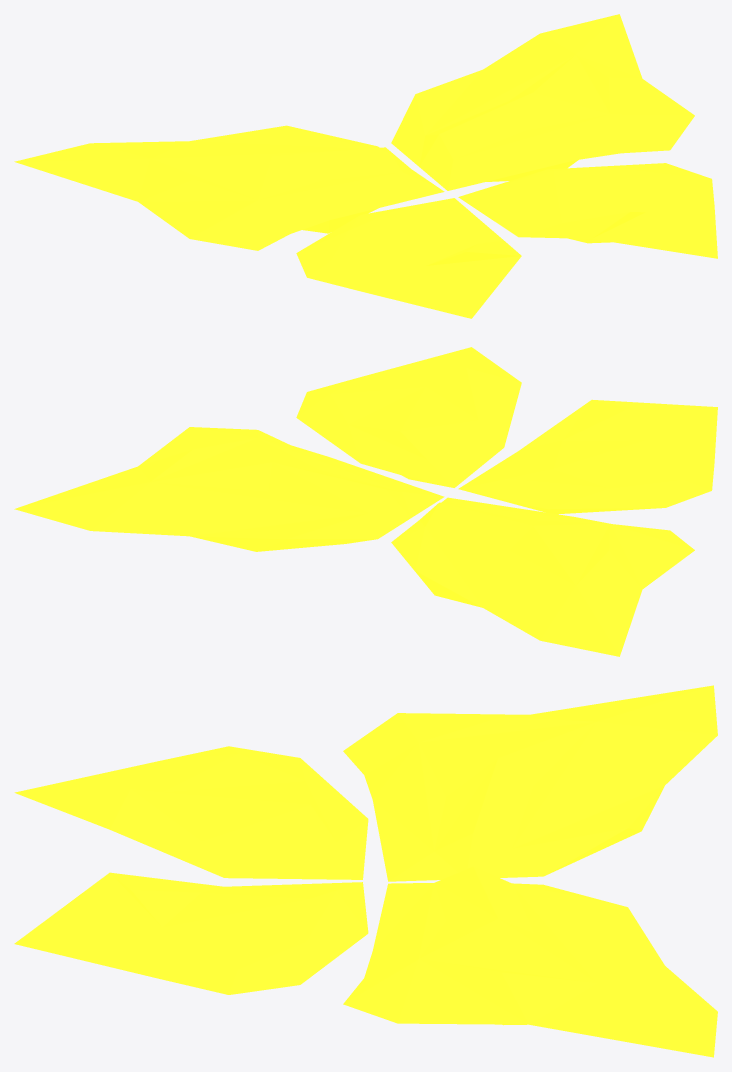
The model's file is butterfly_mesh1.2.fbx.
3 views of the same model, one above another, from view 1: azimuth 30°, elevation 25°; view 2: azimuth 150°, elevation 25°; view 3: azimuth 270°, elevation 25° (orthographic). The views are drawn at different scales.
Parts seen in each view (by area): view 1: 立方体.002; view 2: 立方体.002; view 3: 立方体.002.
Part boxes in pixels (x1,y1,x2,y2): 立方体.002: (14, 14, 717, 318); 立方体.002: (14, 347, 717, 656); 立方体.002: (14, 685, 717, 1057).
Size of the model in its own units: 989 by 104 by 791.
